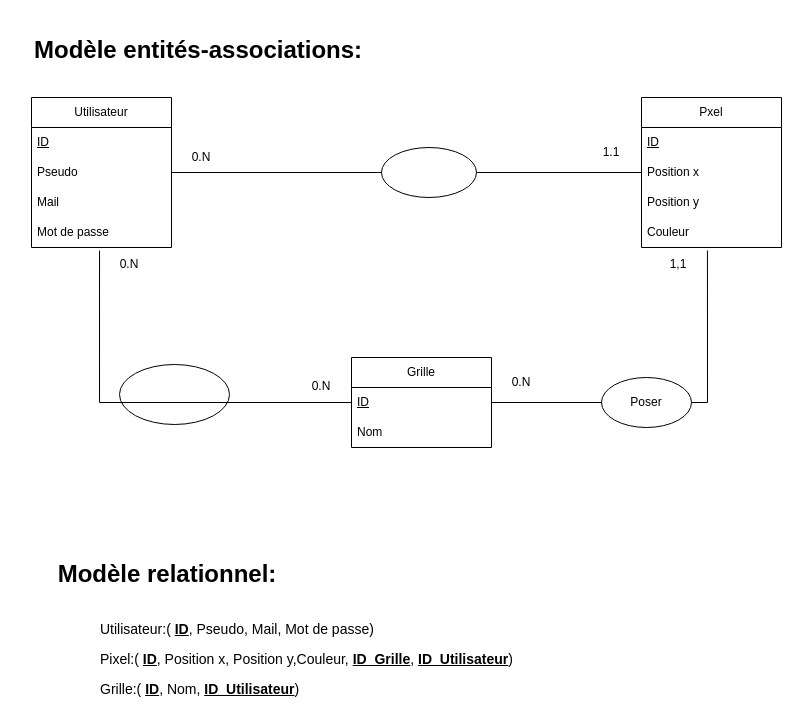
Image size: 799x721. Some labels were removed from this diagram. Each missing label, with the centre of its shape:
"Placer" goes at [428,172].
"Sélectionner" goes at [174,394].
